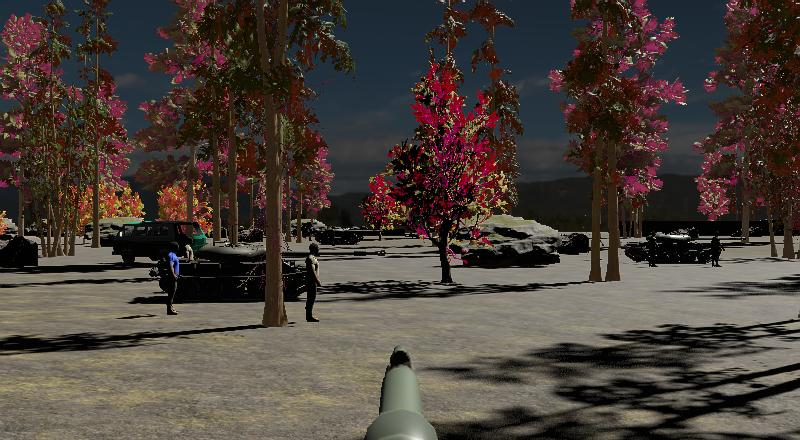Human: (304, 237, 324, 323), (166, 240, 182, 315)
Tank: (162, 239, 328, 302), (623, 229, 725, 266), (313, 224, 376, 247)
car: (111, 219, 208, 265)
